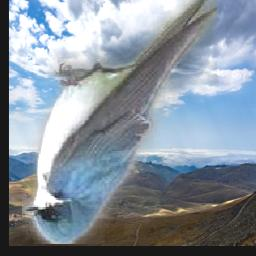Swallow: (22, 0, 217, 245)
